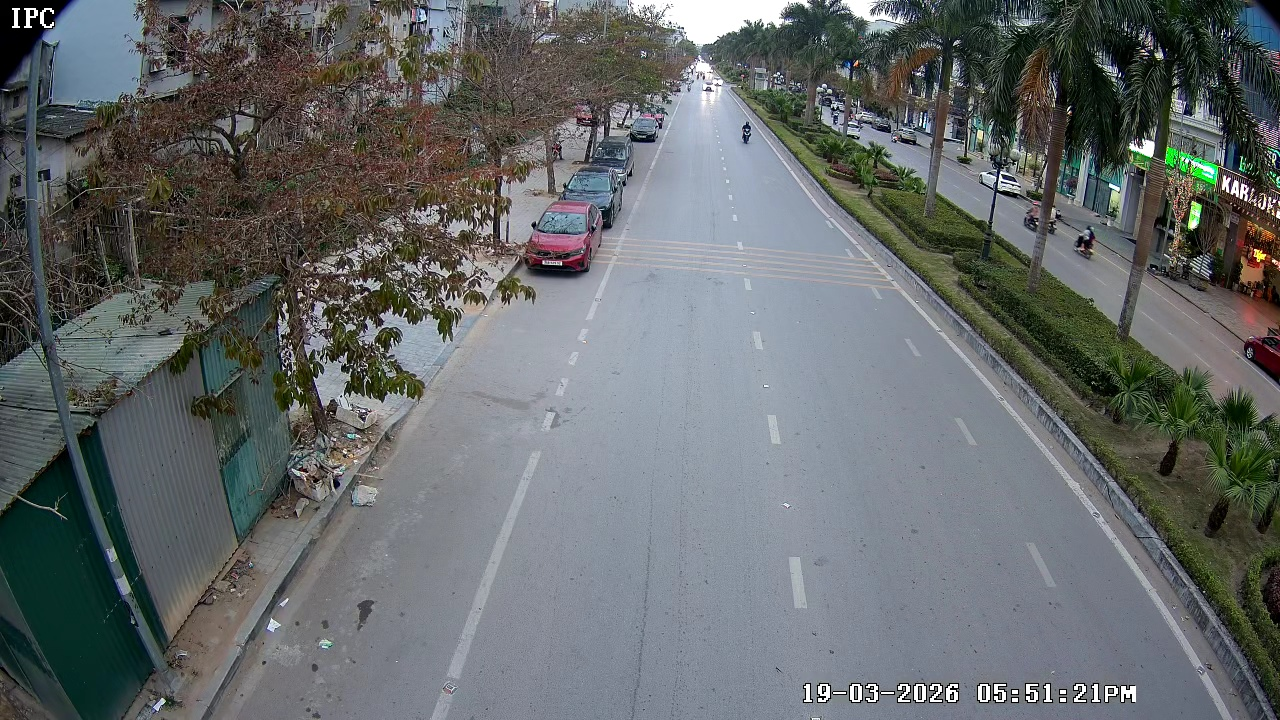car: (524, 200, 599, 277), (703, 80, 716, 94)
motorbike: (740, 120, 753, 145)
